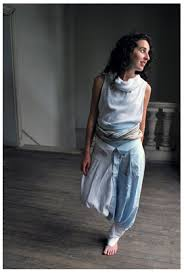middle_eastern_Female: (121, 36, 151, 73)
